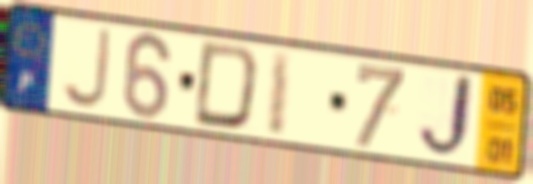6: (121, 30, 174, 122)
7: (352, 61, 408, 150)
D: (190, 38, 263, 133)
I: (265, 47, 296, 139)
J: (414, 70, 477, 164), (58, 25, 114, 111)
